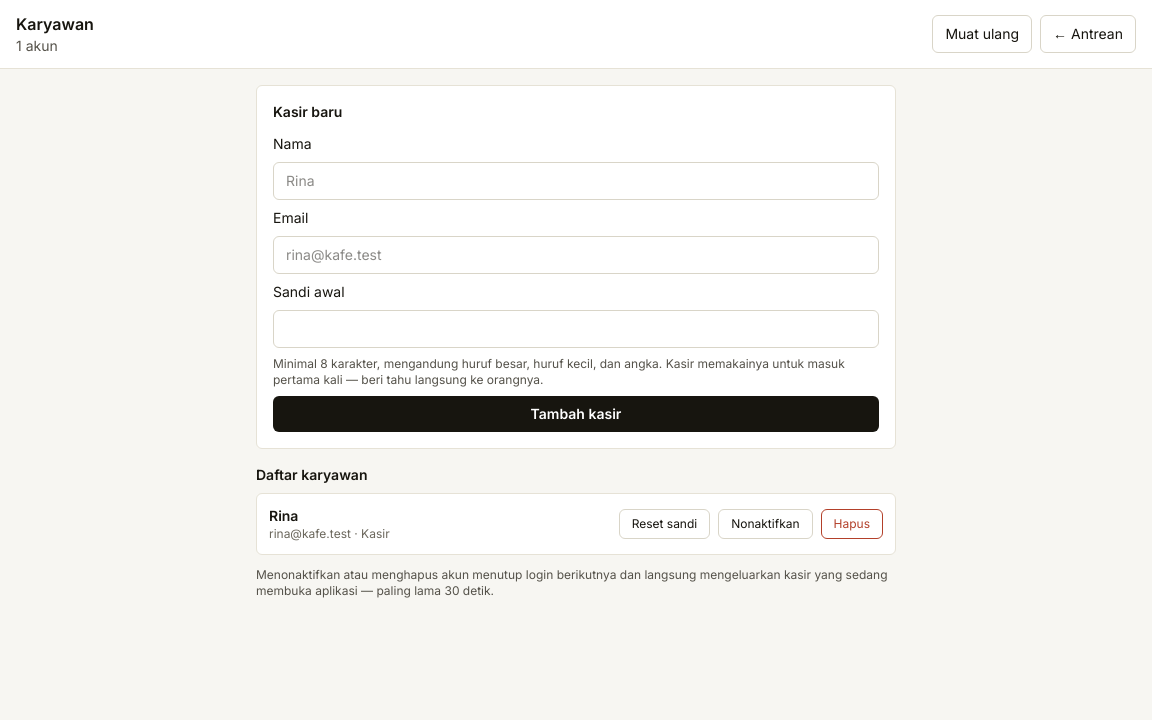
reset sandi kasir › form baru muncul setelah tombol reset diketuk
expect the field labelled "Sandi baru untuk" is not shown: met
Click the button with aria-label "Reset sandi Rina".
click(664, 524)  # box x1=619 y1=509 x2=710 y2=539
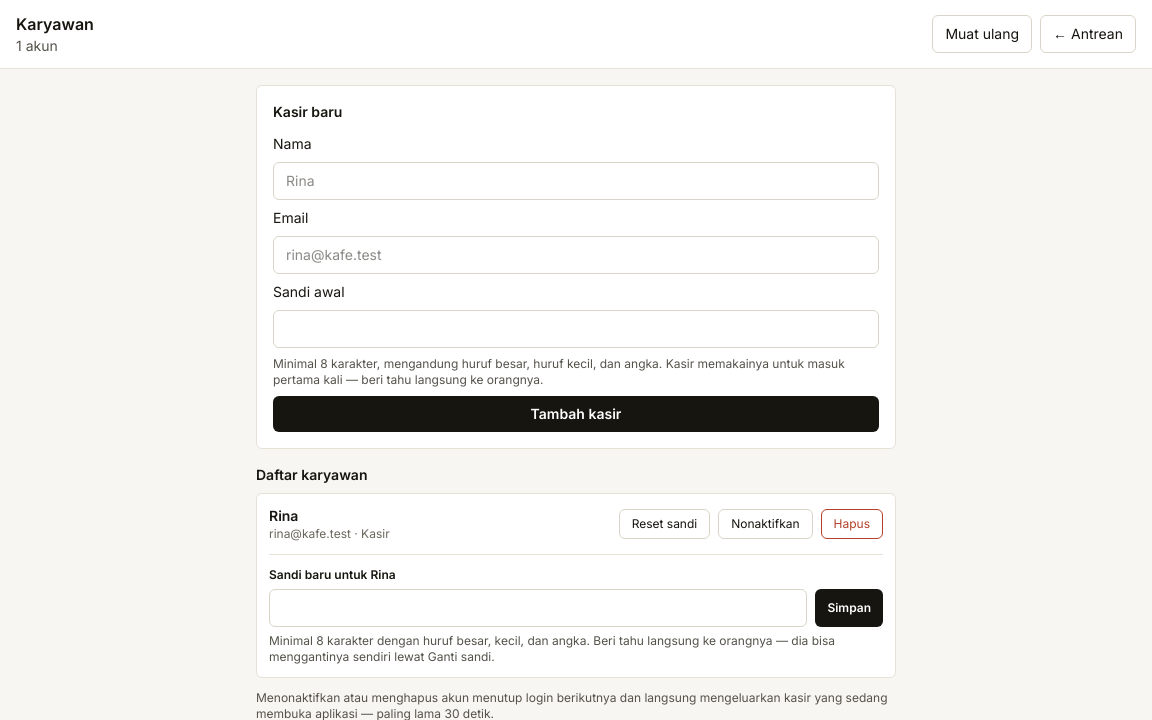
expect the password field labelled "Sandi baru untuk Rina" is shown: met, box x1=269 y1=589 x2=807 y2=627
